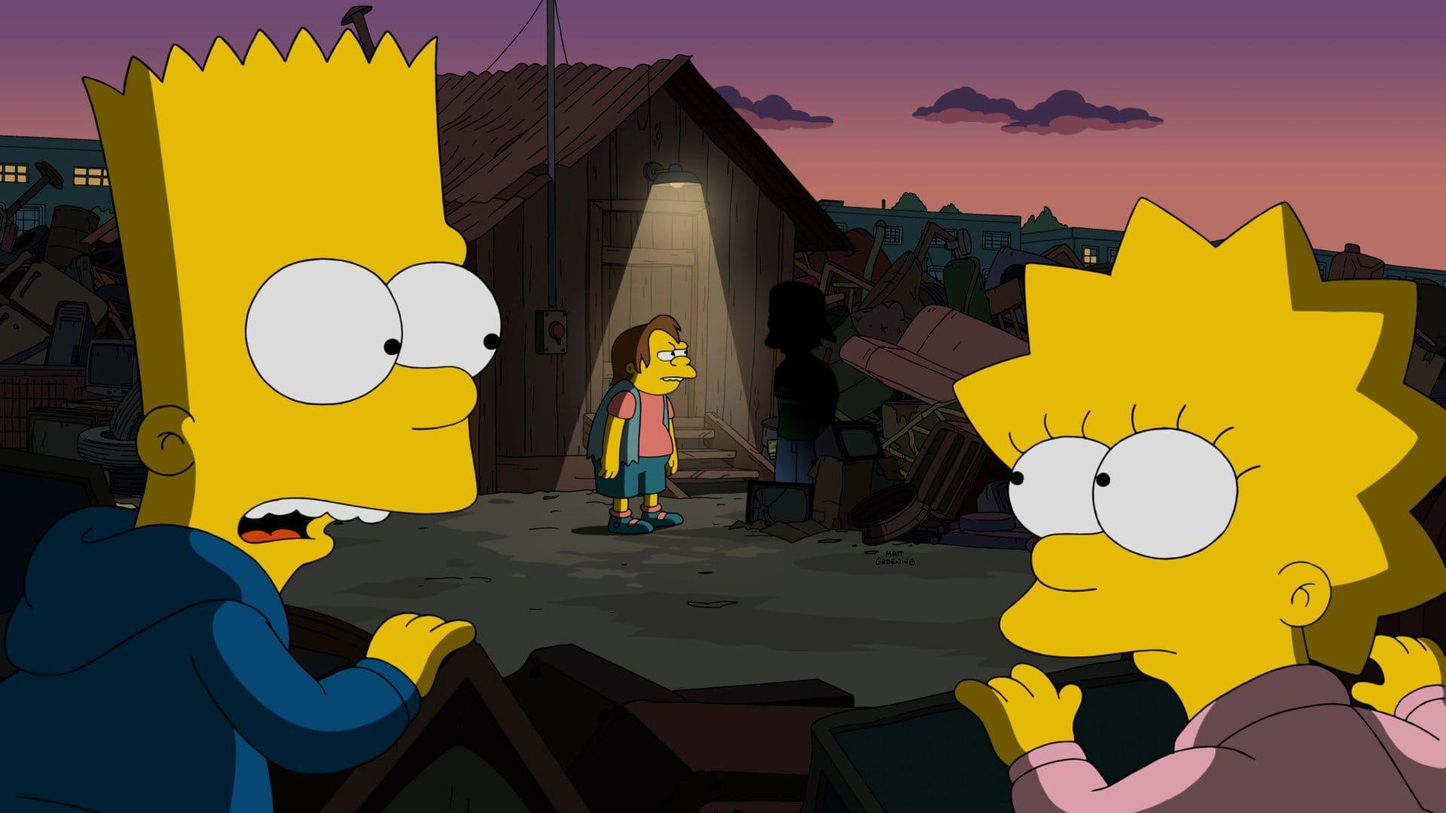Bart: (18, 11, 554, 804)
Lisa: (890, 190, 1446, 813)
